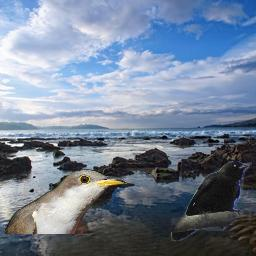Crow: (171, 161, 252, 241)
Cuckoo: (5, 169, 127, 234)
